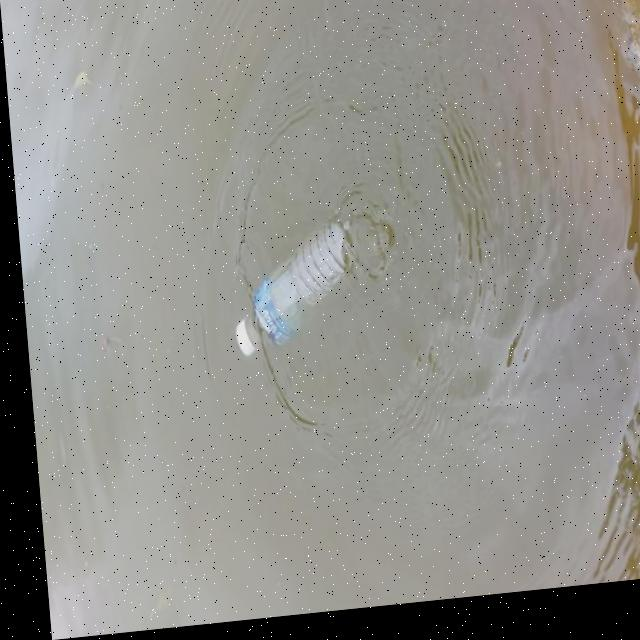waterbottle: (190, 229, 357, 380)
